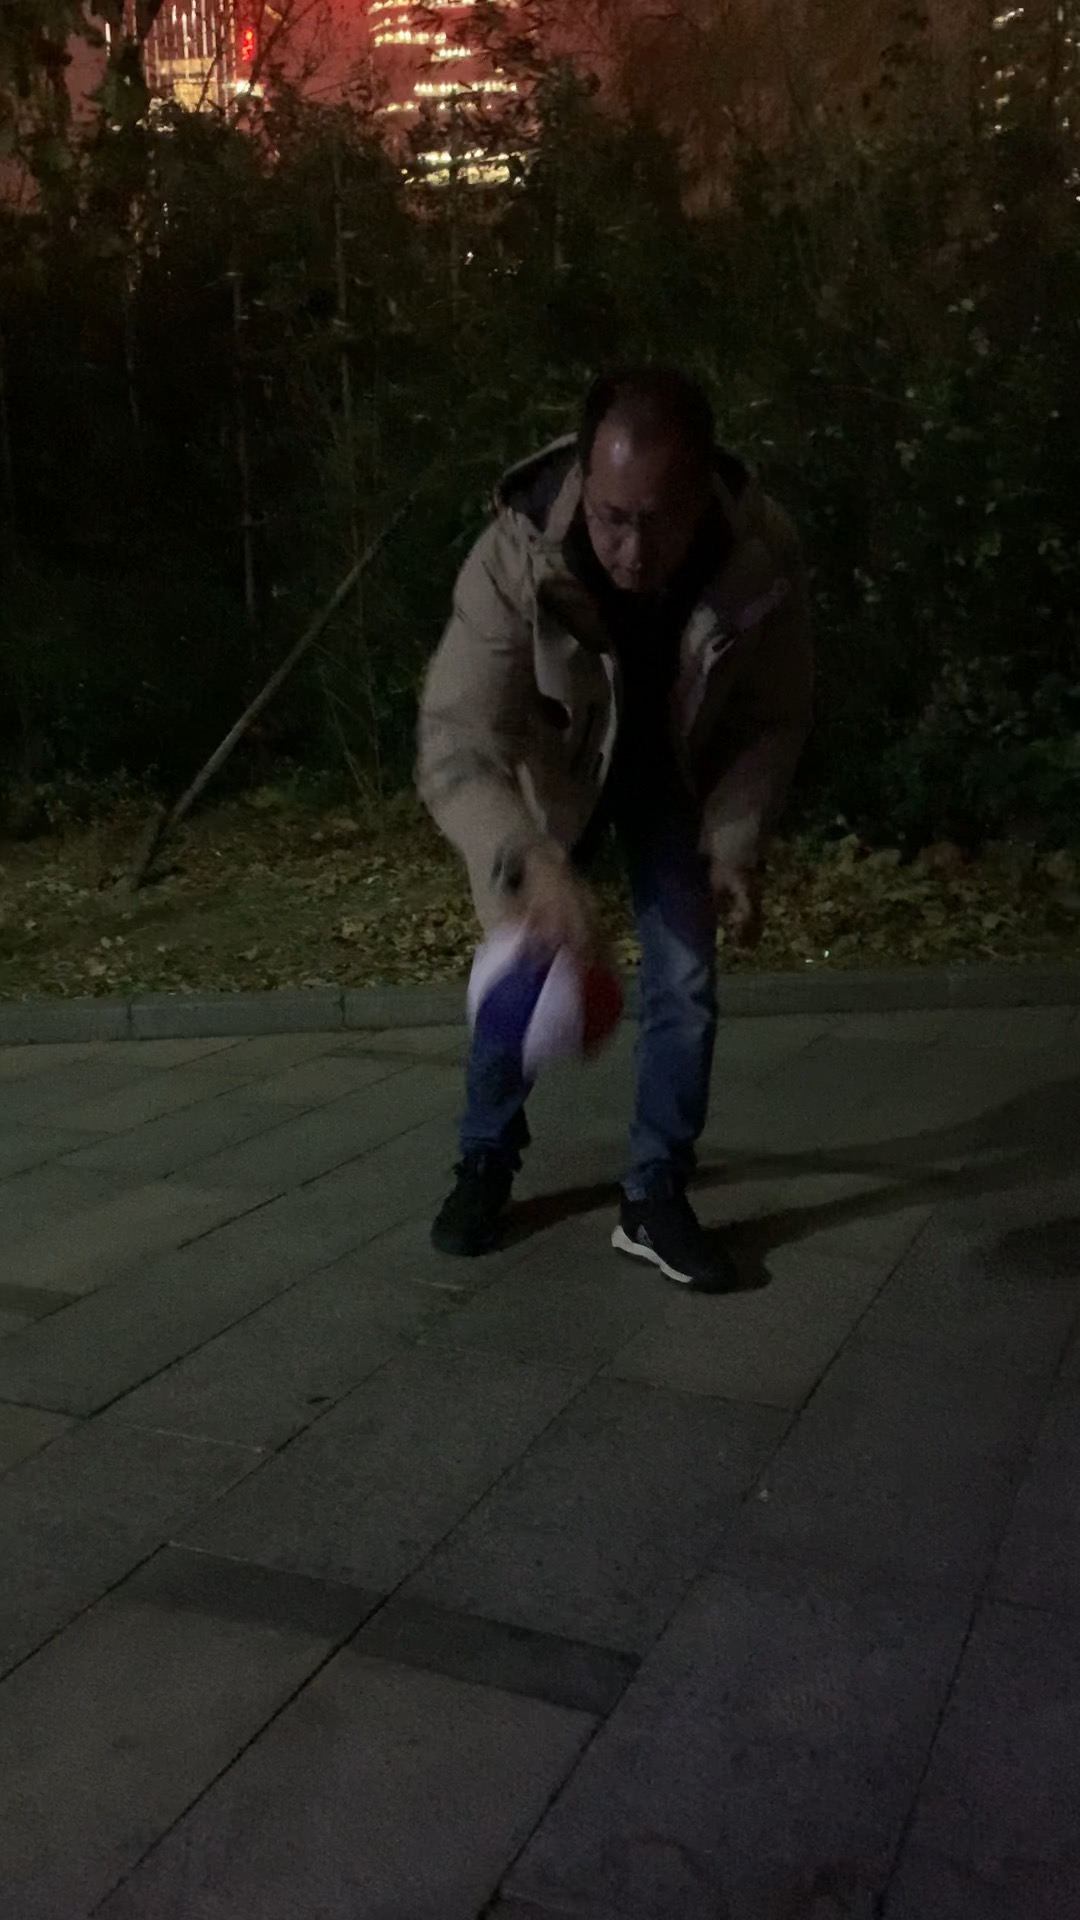ball: (464, 913, 626, 1080)
